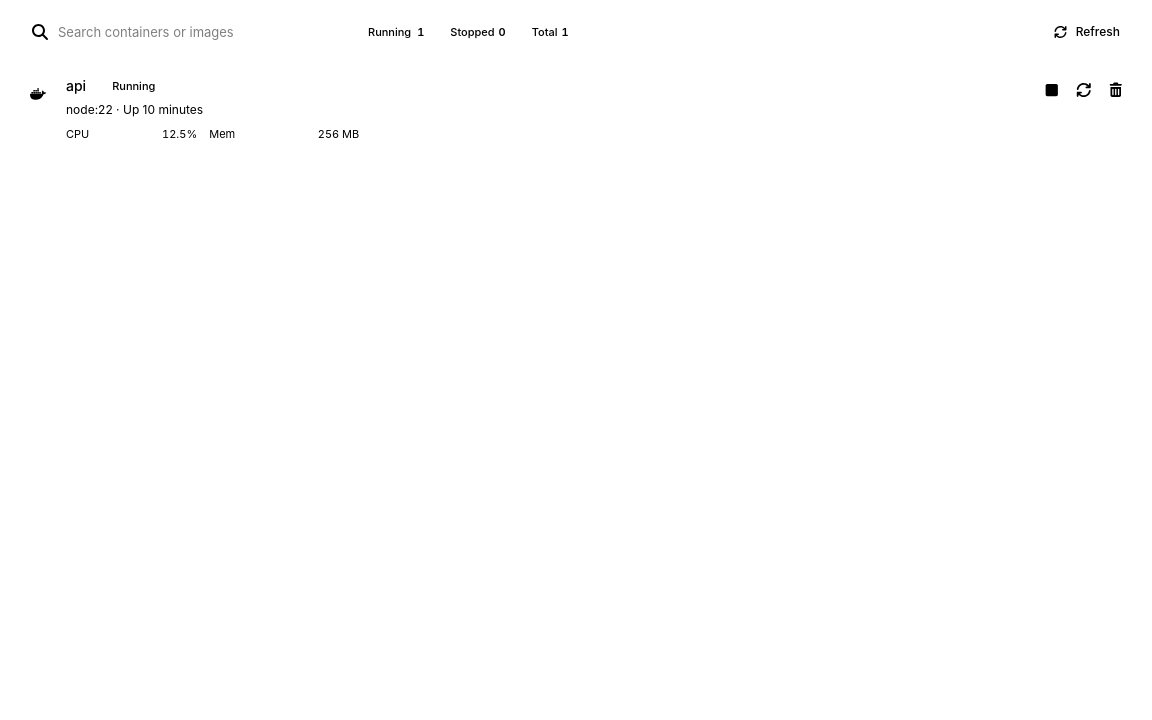
DockerPage actions › leaves the container alone when the stop confirmation is cancelled
Expected: the text "api" is shown, x1=66 y1=76 x2=86 y2=96
Click the button named "Stop api".
click(1052, 90)  # box x1=1038 y1=76 x2=1066 y2=104
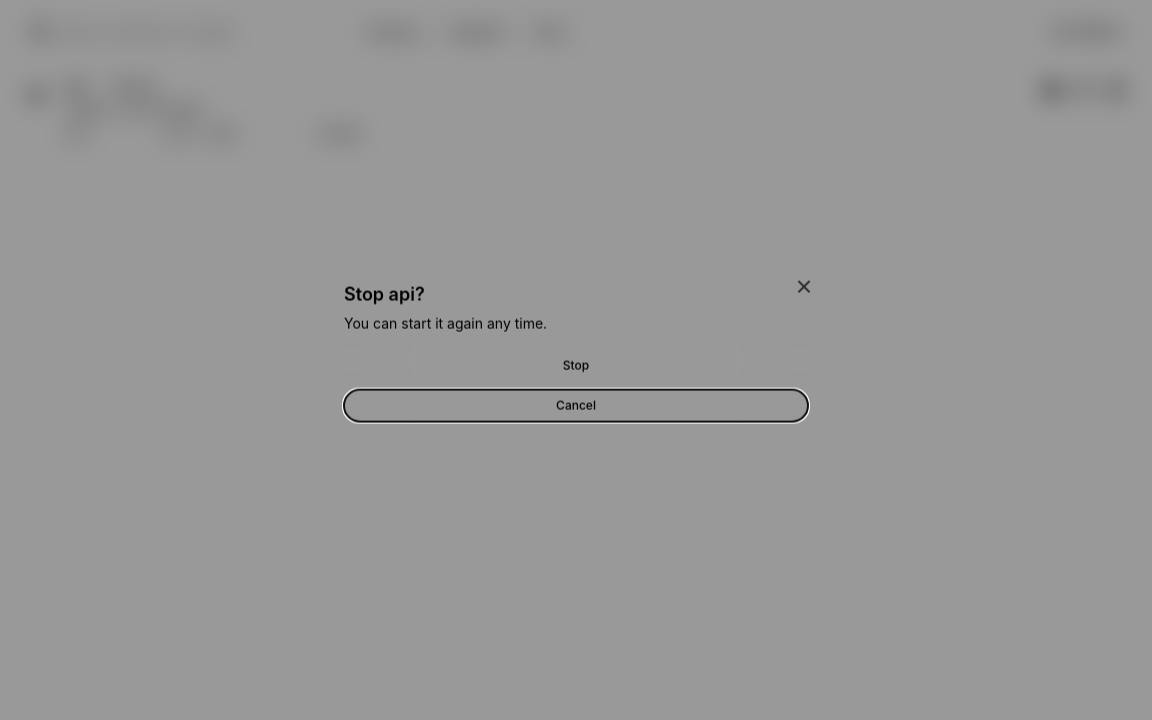
Click the button "Cancel".
click(576, 405)  # box x1=344 y1=389 x2=808 y2=421
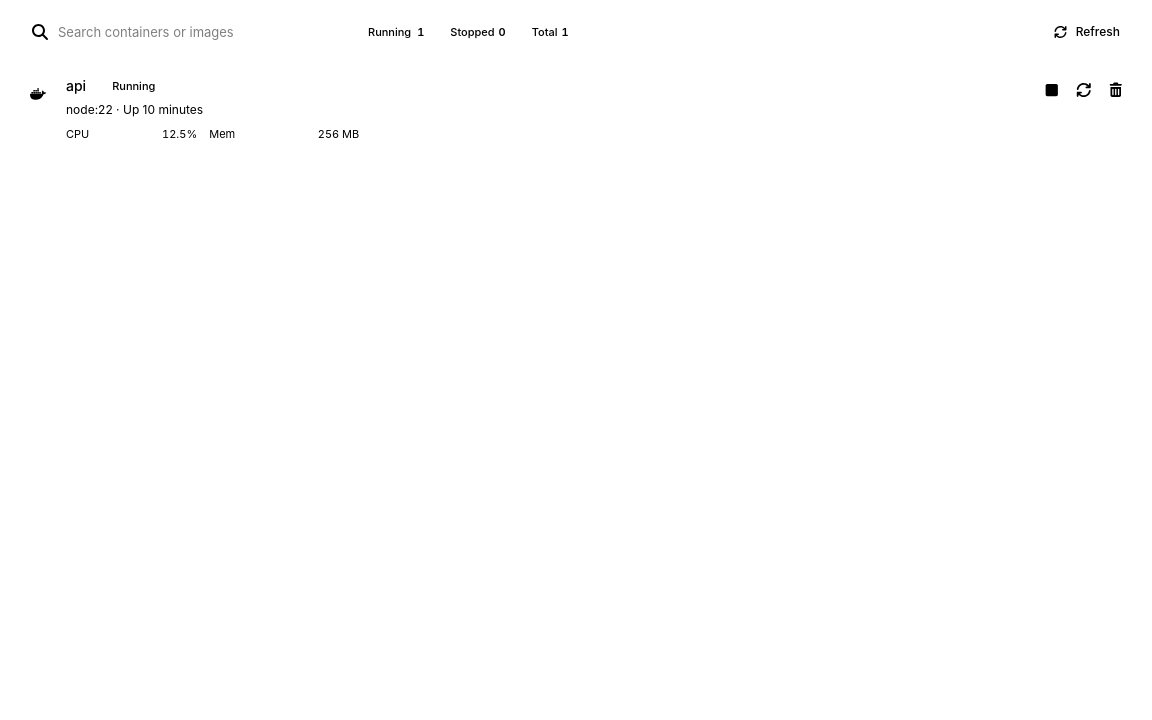
Now the dialog is gone
